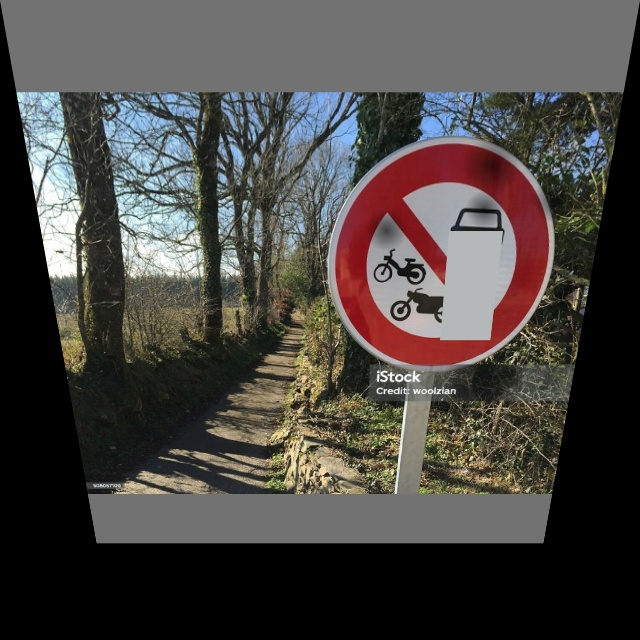All_Motor_Vehicles_Prohibited: (329, 137, 573, 365)
